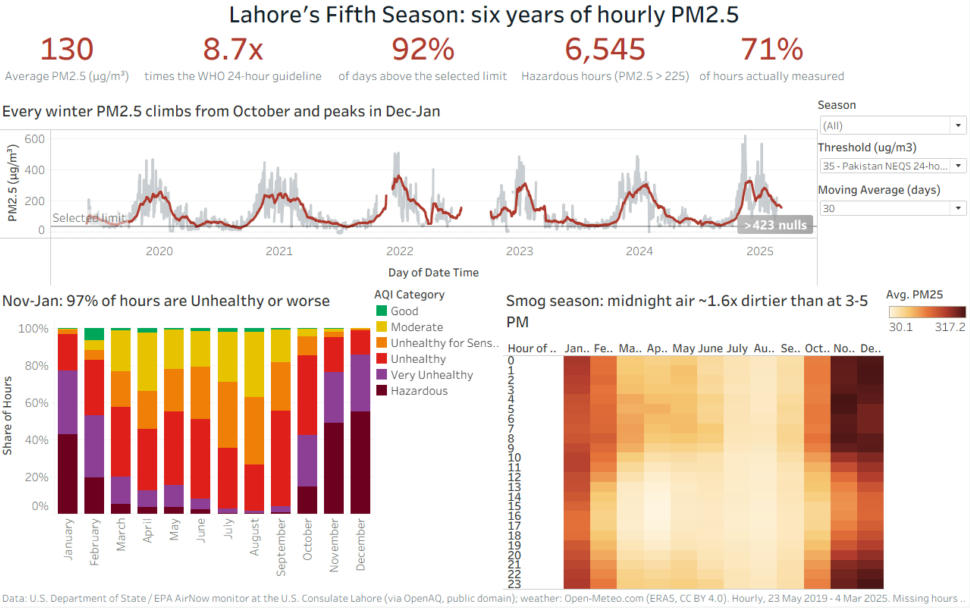

The dashboard page shown, as its layout file describes it:
{"tool":"tableau","page":{"name":"When and How Bad","canvas":[1280,800],"ordinal":0},"visuals":[{"type":"text","box":[0,0,1280,36]},{"type":"NONE","title":"KPI Average","box":[0,36,256,92]},{"type":"NONE","title":"KPI WHO","box":[256,36,256,92]},{"type":"NONE","title":"KPI Days Above","box":[512,36,256,92]},{"type":"NONE","title":"KPI Hazardous","box":[768,36,256,92]},{"type":"NONE","title":"KPI Coverage","box":[1024,36,256,92]},{"type":"NONE","title":"Daily Trend","box":[0,128,1080,250]},{"type":"filter","title":"AQI Mix by Month","param":"[federated.0ahyg8e1xelf3914bag3r0yukuro].[none:Season:nk]","box":[1080,128,200,56]},{"type":"parameter","param":"[Parameters].[Parameter 1]","box":[1080,184,200,56]},{"type":"parameter","param":"[Parameters].[Parameter 2]","box":[1080,240,200,56]},{"type":"blank","box":[1080,296,200,82]},{"type":"NONE","title":"AQI Mix by Month","box":[0,378,500,400]},{"type":"legend","title":"AQI Mix by Month","param":"[federated.0ahyg8e1xelf3914bag3r0yukuro].[none:AQI Category:nk]","box":[500,378,170,400]},{"type":"NONE","title":"Smog Clock","box":[670,378,500,400]},{"type":"legend","title":"Smog Clock","param":"[federated.0ahyg8e1xelf3914bag3r0yukuro].[avg:PM25:qk]","box":[1170,378,110,400]},{"type":"text","box":[0,778,1280,22]}]}

Visuals, with their boxes in screenshot pixels (x1, y1, x2, y2), scaled from the page's 1280x800 canvas onto the 970x608 screenshot:
text: Rect(0, 0, 969, 27)
"KPI Average" NONE: Rect(0, 27, 194, 97)
"KPI WHO" NONE: Rect(194, 27, 388, 97)
"KPI Days Above" NONE: Rect(388, 27, 582, 97)
"KPI Hazardous" NONE: Rect(582, 27, 776, 97)
"KPI Coverage" NONE: Rect(776, 27, 969, 97)
"Daily Trend" NONE: Rect(0, 97, 818, 287)
"AQI Mix by Month" filter: Rect(818, 97, 969, 140)
parameter: Rect(818, 140, 969, 182)
parameter: Rect(818, 182, 969, 225)
blank: Rect(818, 225, 969, 287)
"AQI Mix by Month" NONE: Rect(0, 287, 379, 591)
"AQI Mix by Month" legend: Rect(379, 287, 508, 591)
"Smog Clock" NONE: Rect(508, 287, 887, 591)
"Smog Clock" legend: Rect(887, 287, 969, 591)
text: Rect(0, 591, 969, 607)
